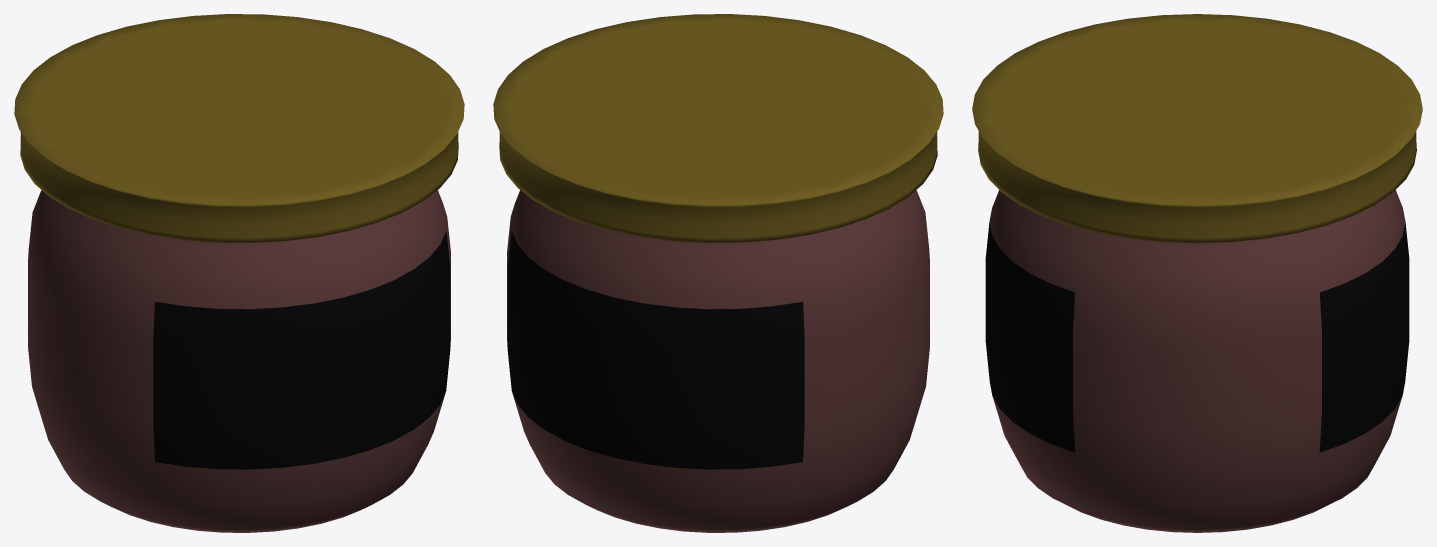
The model's file is Flour.fbx.
3 renders of one model, left to right at view 1: azimuth 30°, elevation 25°; view 2: azimuth 150°, elevation 25°; view 3: azimuth 270°, elevation 25°, orthographic.
Visible parts, largest first — view 1: pCylinder1; view 2: pCylinder1; view 3: pCylinder1.
Boxes of the visible parts, x1,y1,x2,y2 form: pCylinder1: [14, 14, 464, 532]; pCylinder1: [493, 14, 943, 532]; pCylinder1: [972, 14, 1422, 532].
Bounding box in the file's own units: 37.31 × 32.4 × 37.31.
